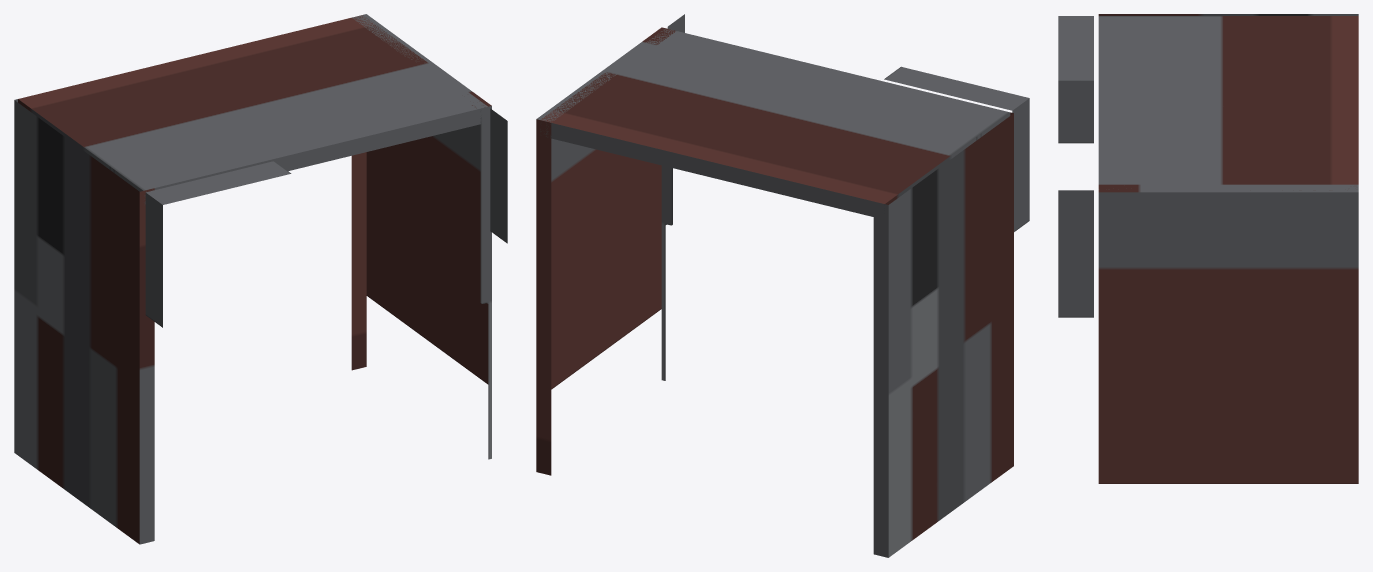
Rendered from section-0.obj.
3 renders of one model, left to right at view 1: azimuth 30°, elevation 25°; view 2: azimuth 150°, elevation 25°; view 3: azimuth 270°, elevation 25°, orthographic. The views are drawn at different scales.
Bounding box in the file's own units: 0.94 × 0.9 × 0.67.
